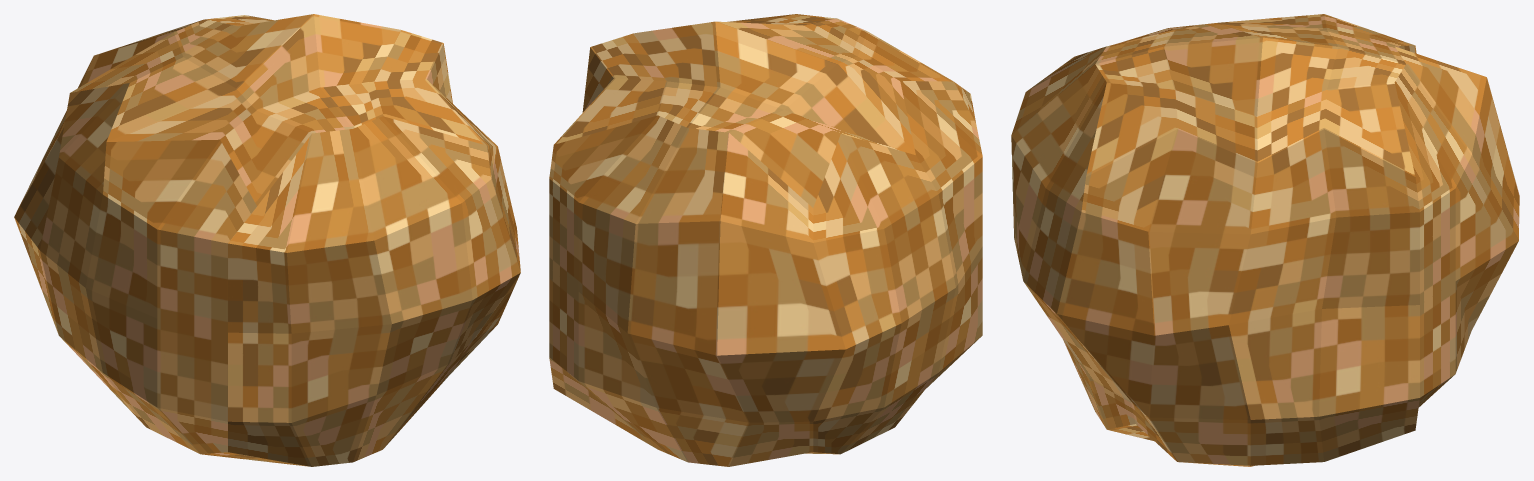
Rendered from Gold Nuggie.fbx.
3 renders of one model, left to right at view 1: azimuth 30°, elevation 25°; view 2: azimuth 150°, elevation 25°; view 3: azimuth 270°, elevation 25°, orthographic. The views are drawn at different scales.
Parts seen in each view (by area): view 1: Cube; view 2: Cube; view 3: Cube.
Part boxes in pixels (left/top/right/bottom): Cube: left=14, top=14, right=520, bottom=466; Cube: left=549, top=14, right=982, bottom=466; Cube: left=1011, top=14, right=1519, bottom=466.
Size of the model in its own units: 235 by 228 by 248.
Materials: 1 (1 with a texture image).
